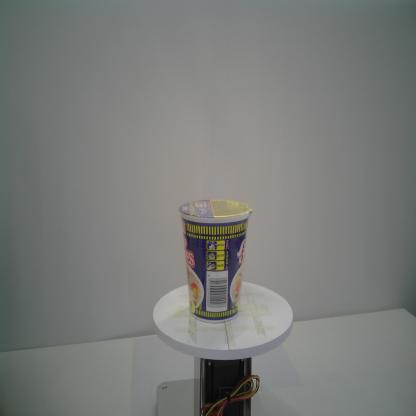Instant Noodles: (178, 196, 253, 326)
